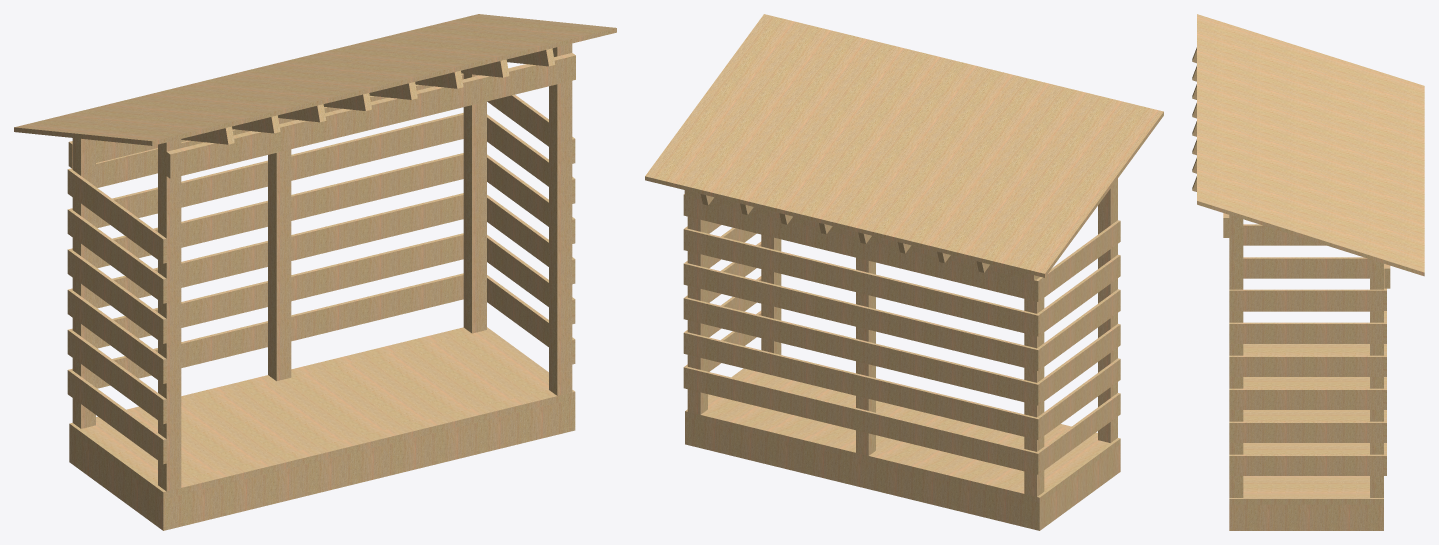
File: shed.glb
3 renders of one model, left to right at view 1: azimuth 30°, elevation 25°; view 2: azimuth 150°, elevation 25°; view 3: azimuth 270°, elevation 25°, orthographic. The views are drawn at different scales.
Parts seen in each view (by area): view 1: M_Dimension Lumber, M_Timber-Column, Roofs; view 2: M_Dimension Lumber, Roofs, M_Timber-Column; view 3: Roofs, M_Dimension Lumber, M_Timber-Column.
Boxes of the visible parts, x1=… form: M_Dimension Lumber: x1=67, y1=48, x2=575, y2=530; M_Timber-Column: x1=72, y1=43, x2=572, y2=491; Roofs: x1=14, y1=14, x2=616, y2=145; M_Dimension Lumber: x1=683, y1=190, x2=1120, y2=530; Roofs: x1=645, y1=14, x2=1163, y2=277; M_Timber-Column: x1=687, y1=179, x2=1117, y2=496; Roofs: x1=1197, y1=14, x2=1424, y2=276; M_Dimension Lumber: x1=1192, y1=47, x2=1390, y2=530; M_Timber-Column: x1=1229, y1=215, x2=1383, y2=497.
Bounding box in the file's own units: 2.79 × 2.36 × 1.47.
1 material, 1 textured.
